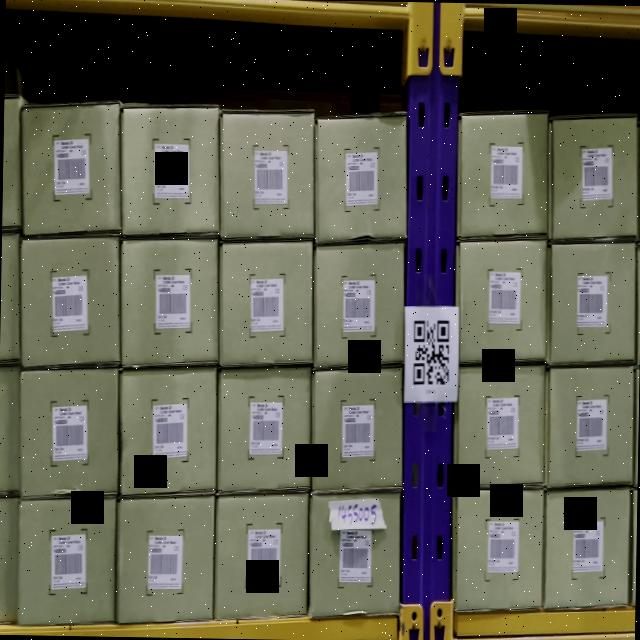box: (18, 365, 120, 502), (120, 104, 224, 235), (18, 238, 124, 366), (19, 105, 124, 234), (118, 367, 219, 498), (216, 238, 316, 370), (214, 493, 314, 624), (116, 496, 218, 619), (120, 241, 222, 364), (20, 496, 118, 624), (313, 113, 408, 244), (309, 367, 404, 496), (220, 112, 317, 238), (453, 364, 548, 488), (458, 114, 552, 236), (456, 240, 550, 362), (548, 114, 637, 242), (549, 241, 640, 366), (314, 242, 408, 362), (454, 486, 546, 606), (218, 366, 310, 484), (546, 364, 632, 486), (544, 488, 632, 606), (309, 494, 398, 608)
